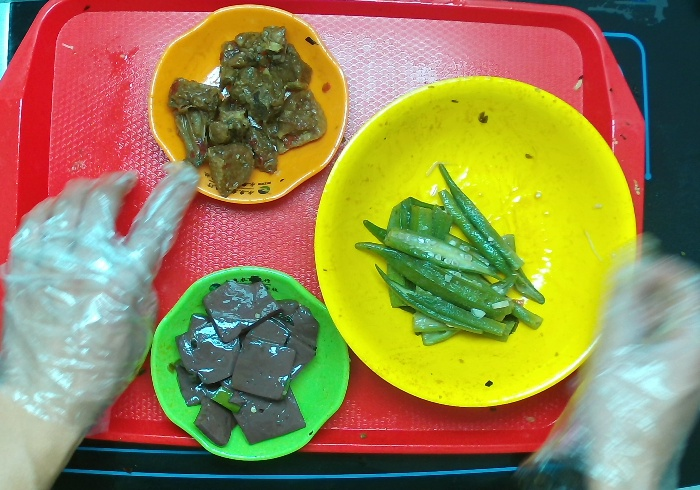YKMZ-Huang_Se_Tang_Wan: (312, 72, 641, 410)
YKMZ-Ju_Se_Ao_Bian_Wan: (146, 1, 349, 207)
YKMZ-Lv_Se_Ao_Bian_Wan: (146, 264, 351, 466)
